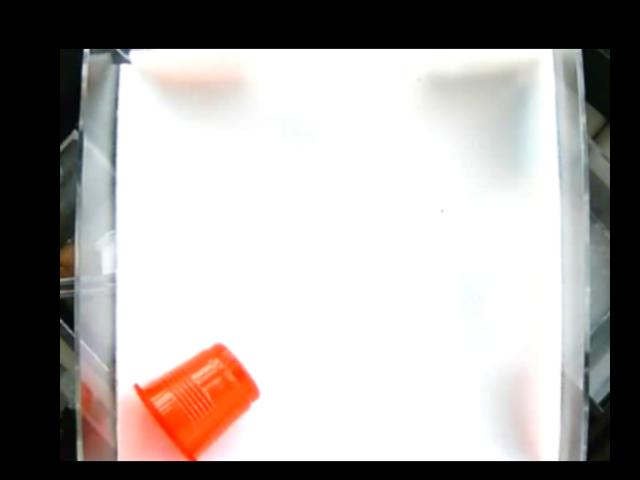Cup: (128, 341, 262, 461)
